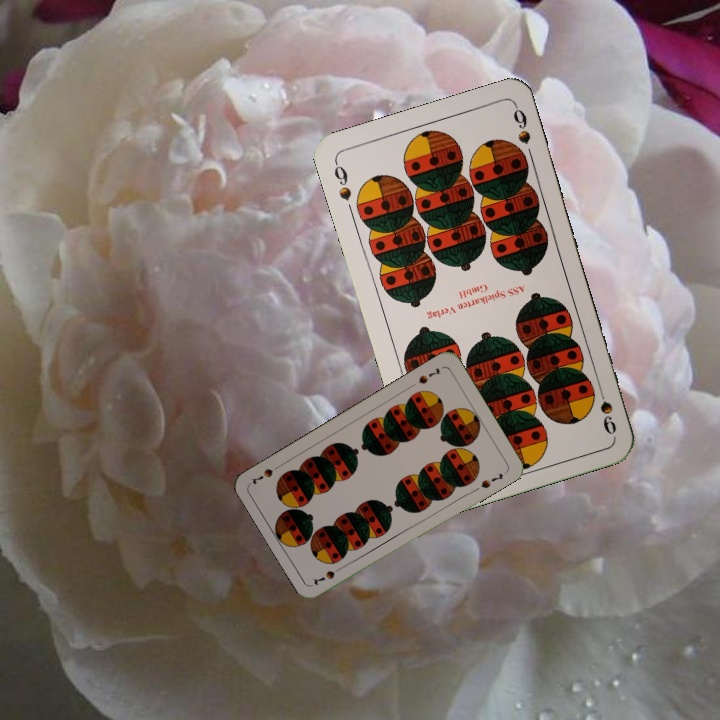S7: (309, 562, 346, 588), (414, 363, 443, 387)
S9: (593, 379, 619, 438), (330, 157, 354, 203)
